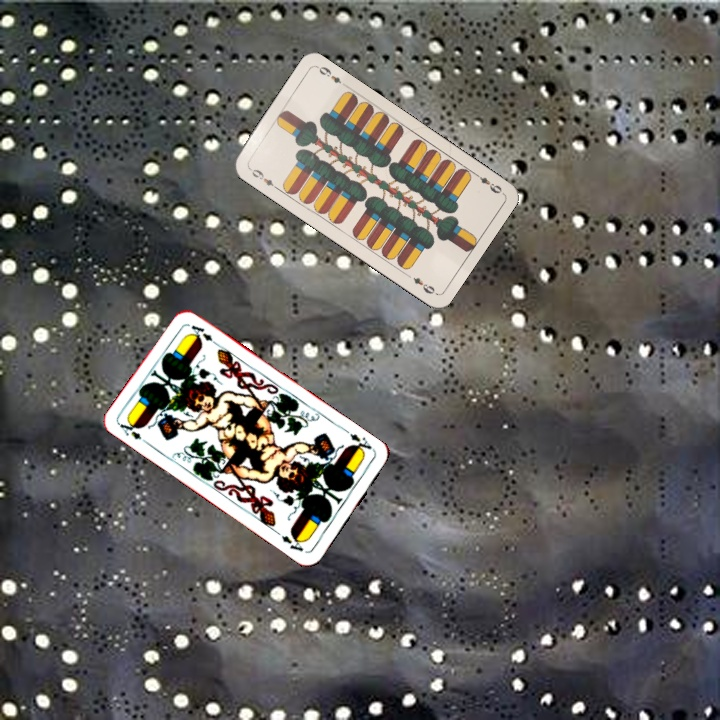E9: (245, 164, 281, 192), (469, 168, 504, 196)
EA: (115, 416, 152, 447), (341, 425, 374, 457)
